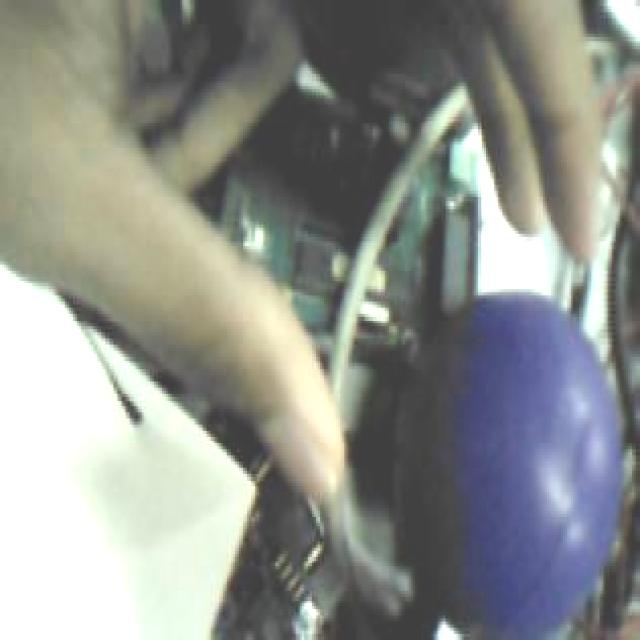BallPurple: (408, 289, 620, 640)
